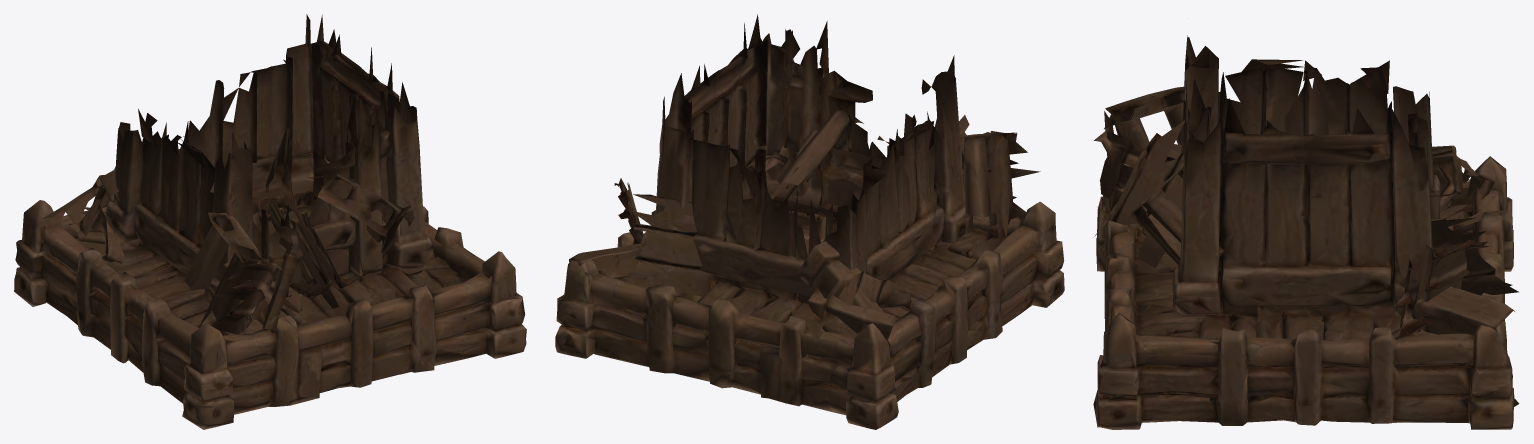
The model's file is tower_small_destroyed.glb.
The picture shows the model from 3 angles, left to right: view 1: azimuth 30°, elevation 25°; view 2: azimuth 150°, elevation 25°; view 3: azimuth 270°, elevation 25°; orthographic projection. The views are drawn at different scales.
Bounding box in the file's own units: 1.21 × 0.941 × 1.22.
1 material, 1 textured.
